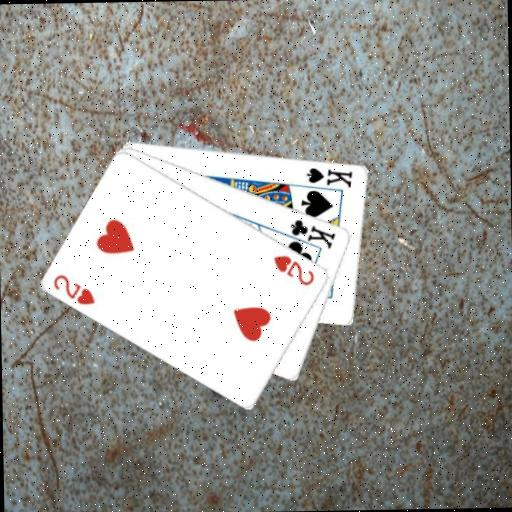2H: (50, 270, 98, 307), (270, 252, 316, 288)
KC: (280, 216, 338, 253)
KS: (304, 163, 355, 189)
